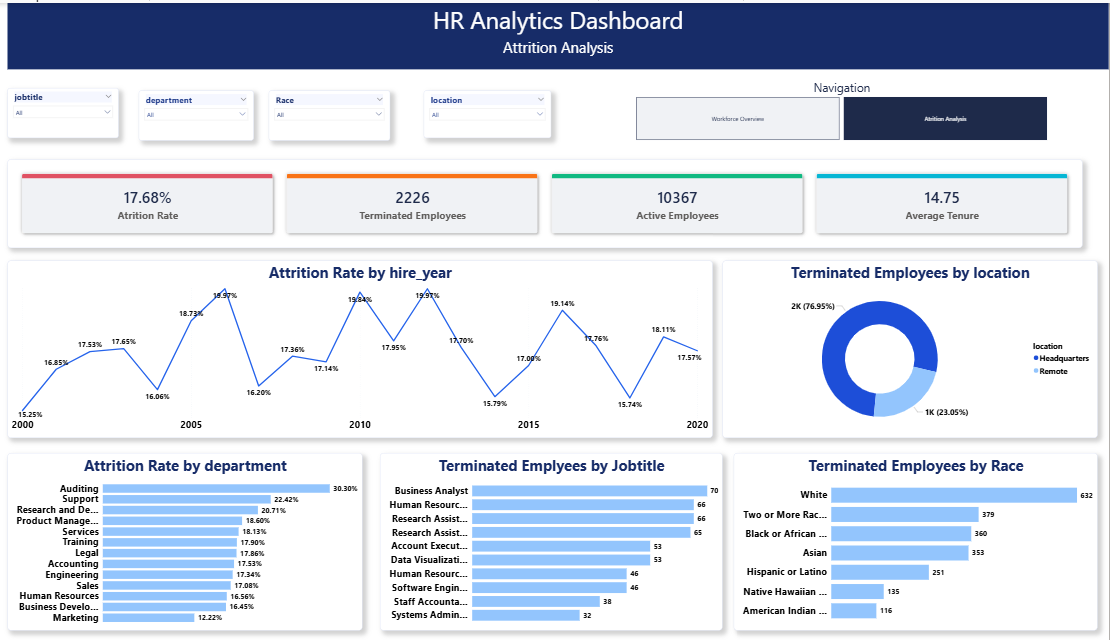

Layout of this report page (visuals, bound fields, positions):
{"tool":"powerbi","page":{"name":"Atrition Analysis","canvas":[2500,1450],"ordinal":1},"visuals":[{"type":"cardVisual","fields":{"Data":["HR_analysis (2).Atrition Rate","HR_analysis (2).Terminated Employees","HR_analysis (2).Active Employees","HR_analysis (2).Average Tenure"]},"box":[16.9,352.2,2423.4,200.1],"z":0},{"type":"lineChart","title":"Attrition Rate by hire_year","fields":{"Category":["HR_analysis (2).hire_year"],"Y":["HR_analysis (2).Atrition Rate"]},"box":[16.9,580.5,1589.3,400.1],"z":1000},{"type":"donutChart","fields":{"Y":["HR_analysis (2).Terminated Employees"],"Category":["HR_analysis (2).location"]},"box":[1628.7,580.5,845.4,400.1],"z":2000},{"type":"barChart","title":"Attrition Rate by department","fields":{"Category":["HR_analysis (2).department"],"Y":["HR_analysis (2).Atrition Rate"]},"box":[16.9,1014.4,800.3,400.1],"z":3000},{"type":"barChart","title":"Terminated Emplyees by Jobtitle","fields":{"Category":["HR_analysis (2).jobtitle"],"Y":["HR_analysis (2).Terminated Employees"]},"box":[856.6,1014.4,772.1,400.1],"z":4000},{"type":"barChart","title":"Terminated Employees by Race","fields":{"Y":["HR_analysis (2).Terminated Employees"],"Category":["HR_analysis (2).race"]},"box":[1654.1,1014.4,820,400.1],"z":5000},{"type":"textbox","title":"HR Analytics Dashboard","box":[16.9,0,2482.6,149.3],"z":5500},{"type":"slicer","fields":{"Values":["HR_analysis (2).jobtitle"]},"box":[16.9,191.6,250.8,112.7],"z":6000},{"type":"slicer","fields":{"Values":["HR_analysis (2).race"]},"box":[605.8,197.3,273.3,112.7],"z":7000},{"type":"slicer","fields":{"Values":["HR_analysis (2).race"]},"box":[955.3,197.3,287.4,107.1],"z":9000},{"type":"slicer","fields":{"Values":["HR_analysis (2).department"]},"box":[312.8,197.3,259.2,112.7],"z":9001},{"type":"pageNavigator","title":"Navigation ","box":[1428.7,149.3,927.1,138.1],"z":9002}]}

Visuals, with their boxes in screenshot pixels (x1, y1, x2, y2), scaled from the page's 2500x1450 canvas onto the 1110x640 screenshot:
cardVisual - HR_analysis (2).Atrition Rate x HR_analysis (2).Terminated Employees: [8, 155, 1083, 244]
"Attrition Rate by hire_year" lineChart: [8, 256, 713, 433]
donutChart - HR_analysis (2).Terminated Employees x HR_analysis (2).location: [723, 256, 1099, 433]
"Attrition Rate by department" barChart: [8, 448, 363, 624]
"Terminated Emplyees by Jobtitle" barChart: [380, 448, 723, 624]
"Terminated Employees by Race" barChart: [734, 448, 1099, 624]
"HR Analytics Dashboard" textbox: [8, 0, 1109, 66]
slicer - HR_analysis (2).jobtitle: [8, 85, 119, 134]
slicer - HR_analysis (2).race: [269, 87, 390, 137]
slicer - HR_analysis (2).race: [424, 87, 552, 134]
slicer - HR_analysis (2).department: [139, 87, 254, 137]
"Navigation " pageNavigator: [634, 66, 1046, 127]
